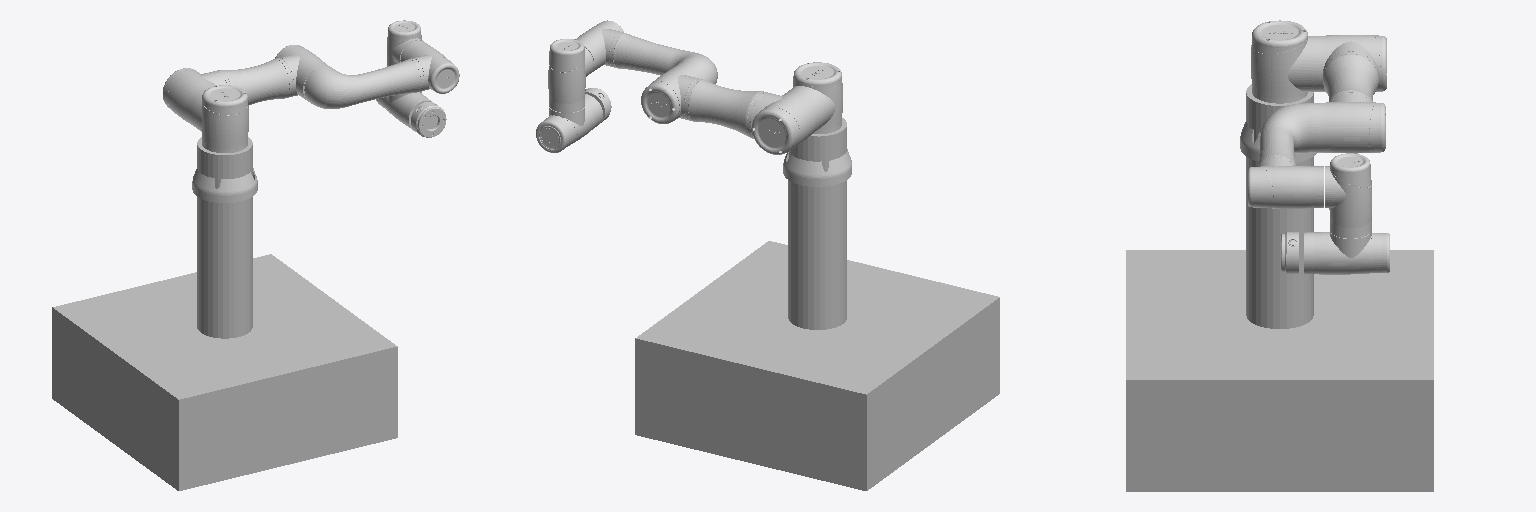
The robot description file, URDF, robot "jaka_zu3":
<?xml version="1.0" encoding="utf-8"?>
<!-- This URDF was automatically created by SolidWorks to URDF Exporter! Originally created by [author] ([email redacted]) 
     Commit Version: 1.5.1-0-g916b5db  Build Version: 1.5.7152.31018
     For more information, please see http://wiki.ros.org/sw_urdf_exporter -->
<robot
  name="jaka_zu3">
  
  <link name="plain_link">
      <visual>
        <geometry>
          <box size="0.5 0.5 0.2" /> 
        </geometry>
        <origin xyz="0 0 0" rpy="0 0 0" />
        <material name="gray">
          <color rgba="0.8 0.8 0.8 1" />
        </material>
      </visual>
      <collision>
        <geometry>
          <box size="0.5 0.5 0.2" />
        </geometry>
        <origin xyz="0 0 0" rpy="0 0 0" />
      </collision>
  </link>

  <joint name="plain2cylinder" type="fixed">
     <parent link="plain_link" />
     <child link="cylinder_link" />
     <origin xyz="0 0 0.2" rpy="0 0 0" />
  </joint>

  <link name="cylinder_link">
     <visual>
        <geometry>
          <cylinder radius="0.055" length="0.6" /> 
        </geometry>
        <origin xyz="0 0 0" rpy="0 0 0" />
        <material name="gray">
          <color rgba="0.8 0.8 0.8 1" />
        </material>
      </visual>
      <collision>
        <geometry>
          <cylinder radius="0.055" length="0.6" />
        </geometry>
        <origin xyz="0 0 0" rpy="0 0 0" />
      </collision>
  </link>

    <joint name="cylinder2base" type="fixed">
      <parent link="cylinder_link" />
      <child link="Link_0" />
      <origin xyz="0 0 0.2" rpy="0 0 0" />
    </joint>

  <link name="dummy" />
    <joint name="dummy_joint" type="fixed">
       <parent link="dummy"/>
       <child link="plain_link"/>
    </joint>

  <link
    name="Link_0">
    <inertial>
      <origin
        xyz="-0.0015666 1.7294E-05 0.05088"
        rpy="0 0 0" />
      <mass
        value="3.6417" />
      <inertia
        ixx="0.0050627"
        ixy="-6.9042E-07"
        ixz="-8.4162E-05"
        iyy="0.0051147"
        iyz="2.9665E-06"
        izz="0.006537" />
    </inertial>
    <visual>
      <origin
        xyz="0 0 0"
        rpy="0 0 0" />
      <geometry>
        <mesh
          filename="package://jaka_rviz/meshes/jaka_zu3_meshes/Link_0.STL" />
      </geometry>
      <material
        name="">
        <color
          rgba="0.84706 0.84706 0.84706 1" />
      </material>
    </visual>
    <collision>
      <origin
        xyz="0 0 0"
        rpy="0 0 0" />
      <geometry>
        <mesh
          filename="package://jaka_rviz/meshes/jaka_zu3_meshes/Link_0.STL" />
      </geometry>
    </collision>
  </link>
  <link
    name="Link_1">
    <inertial>
      <origin
        xyz="-3.8197E-07 0.0039623 -0.0033438"
        rpy="0 0 0" />
      <mass
        value="7.0387" />
      <inertia
        ixx="0.012561"
        ixy="8.1417E-08"
        ixz="-1.8051E-08"
        iyy="0.011919"
        iyz="-8.7195E-05"
        izz="0.0085506" />
    </inertial>
    <visual>
      <origin
        xyz="0 0 0"
        rpy="0 0 0" />
      <geometry>
        <mesh
          filename="package://jaka_rviz/meshes/jaka_zu3_meshes/Link_1.STL" />
      </geometry>
      <material
        name="">
        <color
          rgba="0.84706 0.84706 0.84706 1" />
      </material>
    </visual>
    <collision>
      <origin
        xyz="0 0 0"
        rpy="0 0 0" />
      <geometry>
        <mesh
          filename="package://jaka_rviz/meshes/jaka_zu3_meshes/Link_1.STL" />
      </geometry>
    </collision>
  </link>
  <joint
    name="joint_1"
    type="revolute">
    <origin
      xyz="0 0 0.15055"
      rpy="0 0 0" />
    <parent
      link="Link_0" />
    <child
      link="Link_1" />
    <axis
      xyz="0 0 -1" />
    <limit
      lower="0"
      upper="0"
      effort="0"
      velocity="0" />
  </joint>
  <link
    name="Link_2">
    <inertial>
      <origin
        xyz="0.11439 -6.6036E-07 -0.11395"
        rpy="0 0 0" />
      <mass
        value="18.247" />
      <inertia
        ixx="0.025431"
        ixy="1.2399E-06"
        ixz="-0.0016148"
        iyy="0.21741"
        iyz="-2.144E-08"
        izz="0.20927" />
    </inertial>
    <visual>
      <origin
        xyz="0 0 0"
        rpy="0 0 0" />
      <geometry>
        <mesh
          filename="package://jaka_rviz/meshes/jaka_zu3_meshes/Link_2.STL" />
      </geometry>
      <material
        name="">
        <color
          rgba="0.84706 0.84706 0.84706 1" />
      </material>
    </visual>
    <collision>
      <origin
        xyz="0 0 0"
        rpy="0 0 0" />
      <geometry>
        <mesh
          filename="package://jaka_rviz/meshes/jaka_zu3_meshes/Link_2.STL" />
      </geometry>
    </collision>
  </link>
  <joint
    name="joint_2"
    type="revolute">
    <origin
      xyz="0 0 0"
      rpy="1.5708 0 0" />
    <parent
      link="Link_1" />
    <child
      link="Link_2" />
    <axis
      xyz="0 0 1" />
    <limit
      lower="0"
      upper="0"
      effort="0"
      velocity="0" />
  </joint>
  <link
    name="Link_3">
    <inertial>
      <origin
        xyz="0.13218 1.2348E-05 -0.0083734"
        rpy="0 0 0" />
      <mass
        value="9.5247" />
      <inertia
        ixx="0.0094701"
        ixy="7.4928E-07"
        ixz="-0.0012353"
        iyy="0.088902"
        iyz="6.5058E-08"
        izz="0.084947" />
    </inertial>
    <visual>
      <origin
        xyz="0 0 0"
        rpy="0 0 0" />
      <geometry>
        <mesh
          filename="package://jaka_rviz/meshes/jaka_zu3_meshes/Link_3.STL" />
      </geometry>
      <material
        name="">
        <color
          rgba="0.84706 0.84706 0.84706 1" />
      </material>
    </visual>
    <collision>
      <origin
        xyz="0 0 0"
        rpy="0 0 0" />
      <geometry>
        <mesh
          filename="package://jaka_rviz/meshes/jaka_zu3_meshes/Link_3.STL" />
      </geometry>
    </collision>
  </link>
  <joint
    name="joint_3"
    type="revolute">
    <origin
      xyz="0.248 0 0"
      rpy="0 0 0" />
    <parent
      link="Link_2" />
    <child
      link="Link_3" />
    <axis
      xyz="0 0 1" />
    <limit
      lower="0"
      upper="0"
      effort="0"
      velocity="0" />
  </joint>
  <link
    name="Link_4">
    <inertial>
      <origin
        xyz="6.5068E-08 -0.014052 0.0031614"
        rpy="0 0 0" />
      <mass
        value="3.8728" />
      <inertia
        ixx="0.0058546"
        ixy="-1.505E-08"
        ixz="-1.7928E-08"
        iyy="0.0025893"
        iyz="-0.00019825"
        izz="0.0056328" />
    </inertial>
    <visual>
      <origin
        xyz="0 0 0"
        rpy="0 0 0" />
      <geometry>
        <mesh
          filename="package://jaka_rviz/meshes/jaka_zu3_meshes/Link_4.STL" />
      </geometry>
      <material
        name="">
        <color
          rgba="0.84706 0.84706 0.84706 1" />
      </material>
    </visual>
    <collision>
      <origin
        xyz="0 0 0"
        rpy="0 0 0" />
      <geometry>
        <mesh
          filename="package://jaka_rviz/meshes/jaka_zu3_meshes/Link_4.STL" />
      </geometry>
    </collision>
  </link>
  <joint
    name="joint_4"
    type="revolute">
    <origin
      xyz="0.228 1.1925E-05 -0.115"
      rpy="0 0 0" />
    <parent
      link="Link_3" />
    <child
      link="Link_4" />
    <axis
      xyz="0 0 1" />
    <limit
      lower="0"
      upper="0"
      effort="0"
      velocity="0" />
  </joint>
  <link
    name="Link_5">
    <inertial>
      <origin
        xyz="7.9256E-08 0.0068655 -0.0029086"
        rpy="0 0 0" />
      <mass
        value="4.3241" />
      <inertia
        ixx="0.007903"
        ixy="4.9677E-09"
        ixz="1.0083E-08"
        iyy="0.0028281"
        iyz="-0.00013094"
        izz="0.0076792" />
    </inertial>
    <visual>
      <origin
        xyz="0 0 0"
        rpy="0 0 0" />
      <geometry>
        <mesh
          filename="package://jaka_rviz/meshes/jaka_zu3_meshes/Link_5.STL" />
      </geometry>
      <material
        name="">
        <color
          rgba="0.84706 0.84706 0.84706 1" />
      </material>
    </visual>
    <collision>
      <origin
        xyz="0 0 0"
        rpy="0 0 0" />
      <geometry>
        <mesh
          filename="package://jaka_rviz/meshes/jaka_zu3_meshes/Link_5.STL" />
      </geometry>
    </collision>
  </link>
  <joint
    name="joint_5"
    type="revolute">
    <origin
      xyz="0 -0.1175 0"
      rpy="1.5708 0 0" />
    <parent
      link="Link_4" />
    <child
      link="Link_5" />
    <axis
      xyz="0 0 -1" />
    <limit
      lower="0"
      upper="0"
      effort="0"
      velocity="0" />
  </joint>
  <link
    name="Link_6">
    <inertial>
      <origin
        xyz="4.9731E-05 -2.965E-05 -0.016372"
        rpy="0 0 0" />
      <mass
        value="0.7876" />
      <inertia
        ixx="0.00028184"
        ixy="-6.9755E-07"
        ixz="-4.4645E-07"
        iyy="0.00028506"
        iyz="6.0031E-07"
        izz="0.00045635" />
    </inertial>
    <visual>
      <origin
        xyz="0 0 0"
        rpy="0 0 0" />
      <geometry>
        <mesh
          filename="package://jaka_rviz/meshes/jaka_zu3_meshes/Link_6.STL" />
      </geometry>
      <material
        name="">
        <color
          rgba="0.84706 0.84706 0.84706 1" />
      </material>
    </visual>
    <collision>
      <origin
        xyz="0 0 0"
        rpy="0 0 0" />
      <geometry>
        <mesh
          filename="package://jaka_rviz/meshes/jaka_zu3_meshes/Link_6.STL" />
      </geometry>
    </collision>
  </link>
  <joint
    name="joint_6"
    type="revolute">
    <origin
      xyz="0 0.1065 0"
      rpy="-1.5708 0 0" />
    <parent
      link="Link_5" />
    <child
      link="Link_6" />
    <axis
      xyz="0 0 -1" />
    <limit
      lower="0"
      upper="0"
      effort="0"
      velocity="0" />
  </joint>
</robot>

--- Facts derived from the render (not from the file) ---
The picture shows the robot from 3 angles, left to right: view 1: azimuth 30°, elevation 25°; view 2: azimuth 150°, elevation 25°; view 3: azimuth 270°, elevation 25°; orthographic projection.
Model jaka_zu3 with 10 links and 9 joints (6 revolute, 3 fixed), rooted at dummy, posed every joint at zero.
Links seen in each view (by area): view 1: plain_link, cylinder_link, Link_3, Link_2, Link_1, Link_0, Link_4, Link_6, Link_5; view 2: plain_link, cylinder_link, Link_2, Link_3, Link_4, Link_5, Link_1, Link_0; view 3: plain_link, Link_2, cylinder_link, Link_3, Link_1, Link_4, Link_5, Link_6, Link_0.
Link boxes in pixels (x1,y1,x2,y2): plain_link: (52,254,397,490); cylinder_link: (197,137,252,338); Link_3: (304,40,459,108); Link_2: (163,45,329,126); Link_1: (192,85,248,152); Link_0: (192,168,257,202); Link_4: (387,20,422,66); Link_6: (411,102,446,137); Link_5: (376,91,431,130); plain_link: (635,241,999,490); cylinder_link: (788,118,846,329); Link_2: (641,61,824,154); Link_3: (575,20,717,83); Link_4: (548,39,593,112); Link_5: (536,94,602,152); Link_1: (793,62,842,133); Link_0: (783,149,851,186); plain_link: (1126,250,1433,491); Link_2: (1309,35,1386,153); cylinder_link: (1246,84,1313,328); Link_3: (1248,103,1323,208); Link_1: (1251,20,1310,103); Link_4: (1325,153,1371,238); Link_5: (1304,231,1389,274); Link_6: (1281,232,1298,273); Link_0: (1240,122,1317,162).
Bounding box of the posed robot: 0.761 × 0.5 × 0.7095 m (x, y, z).
7 mesh visuals loaded from 7 distinct referenced files (7 binary STL).
